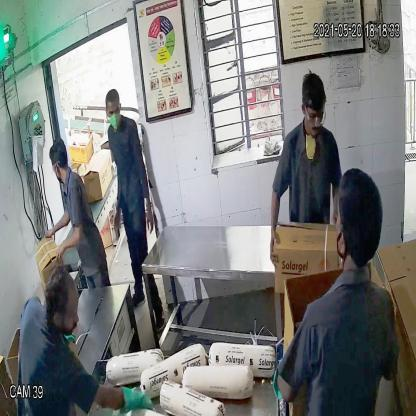goggles: (304, 104, 328, 125)
no_goggles: (106, 106, 121, 116)
